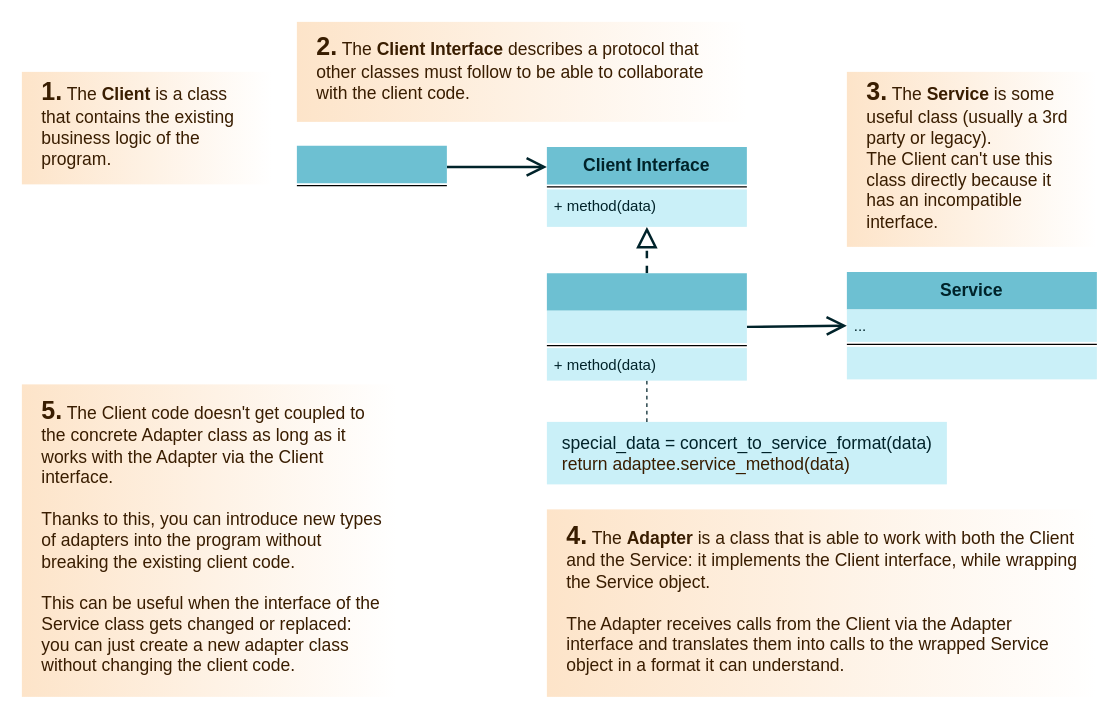
The diagram is 1119 pixels wide and 718 high, and some of its shapes have lost their labels. Each missing label, with the box of its shape:
- adaptee: Service: (546, 310, 746, 342)
. service_mathod(special_data): (846, 346, 1096, 379)
Adapter: (546, 272, 746, 380)
Client: (296, 145, 446, 188)
